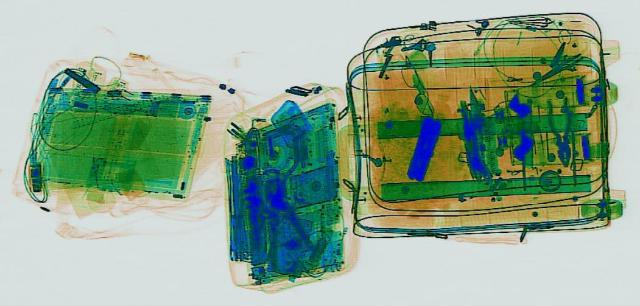Pliers: (542, 96, 580, 166)
